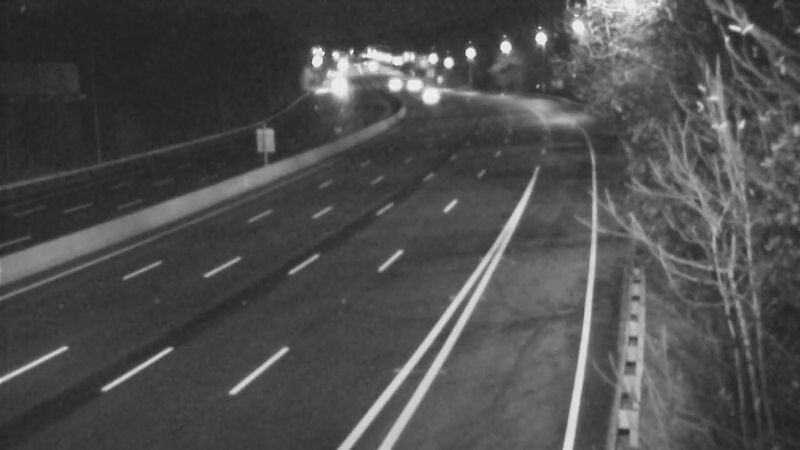vehicle: (364, 57, 414, 107), (386, 59, 436, 109), (404, 71, 454, 121), (316, 63, 366, 113)
